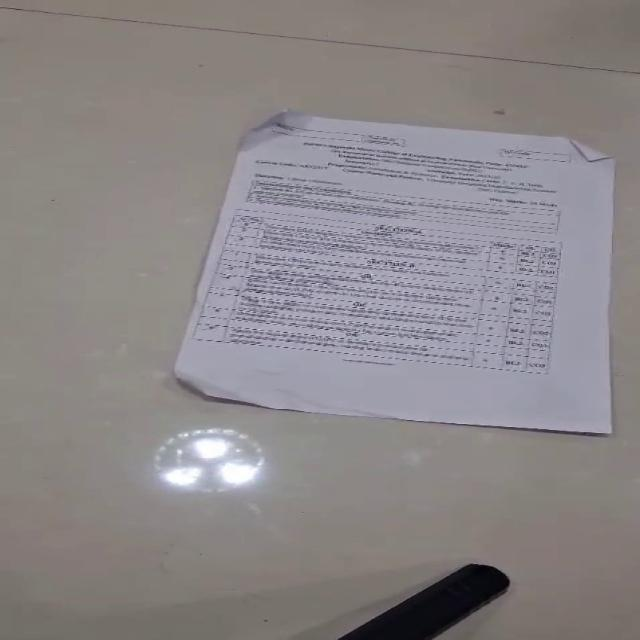paper: (171, 108, 616, 434)
